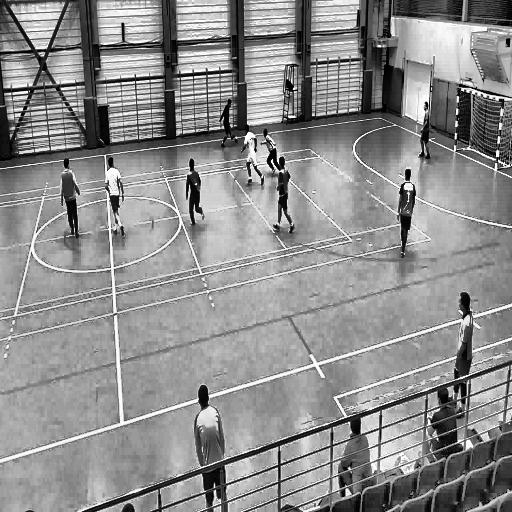ball: (234, 134, 240, 144)
player: (190, 379, 230, 512), (449, 284, 473, 413), (335, 410, 373, 490), (424, 386, 458, 456), (272, 155, 297, 239), (396, 170, 417, 262), (104, 155, 126, 242), (60, 159, 83, 242), (185, 156, 205, 236), (242, 125, 266, 189), (259, 125, 284, 176), (418, 98, 433, 162), (218, 96, 236, 149)
